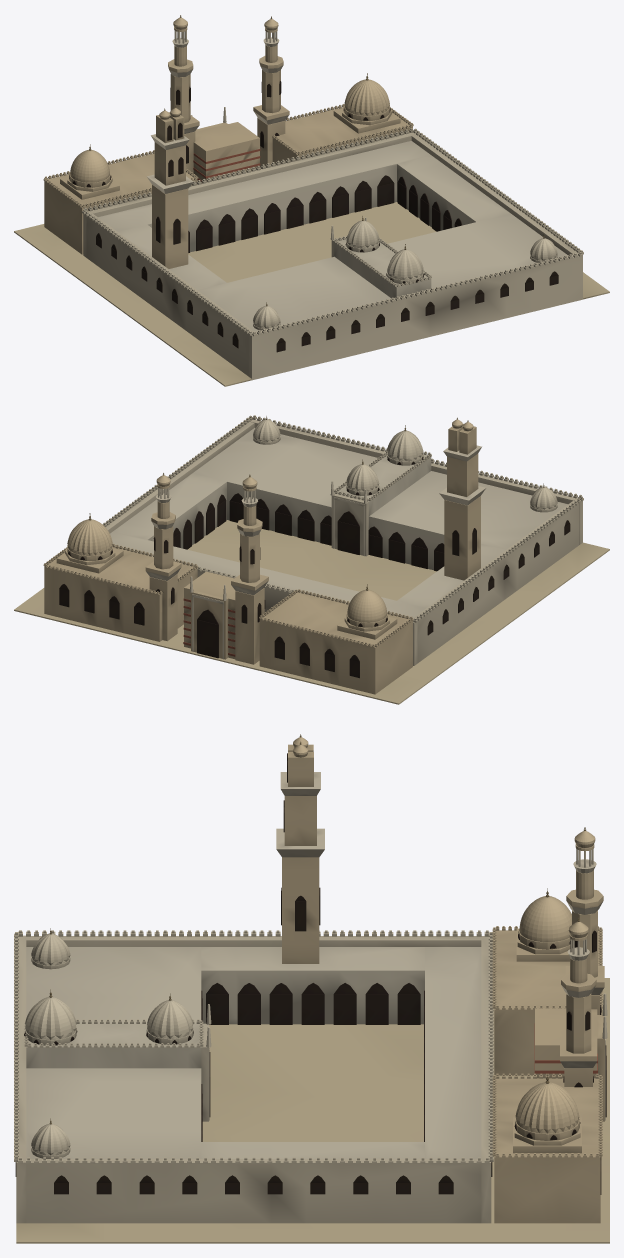
The model's file is al-azhar-1600.glb.
The picture shows the model from 3 angles, top to bottom: view 1: azimuth 30°, elevation 25°; view 2: azimuth 150°, elevation 25°; view 3: azimuth 270°, elevation 25°; orthographic projection. The views are drawn at different scales.
Visible parts, largest first — view 1: p0_walls, p1_arcades, p2_domes, p3_minarets; view 2: p2_domes, p0_walls, p1_arcades, p3_minarets; view 3: p0_walls, p1_arcades, p2_domes, p3_minarets.
Part boxes in pixels (x1,y1,x2,y2): p0_walls: [14, 128, 609, 386]; p1_arcades: [98, 141, 567, 331]; p2_domes: [43, 73, 557, 330]; p3_minarets: [146, 15, 289, 268]; p2_domes: [43, 416, 557, 694]; p0_walls: [14, 415, 609, 704]; p1_arcades: [110, 428, 567, 617]; p3_minarets: [145, 417, 485, 664]; p0_walls: [14, 930, 609, 1243]; p1_arcades: [26, 947, 481, 1158]; p2_domes: [24, 888, 607, 1223]; p3_minarets: [276, 734, 604, 1087].
Size of the model in its own units: 100 by 48.46 by 95.4.
